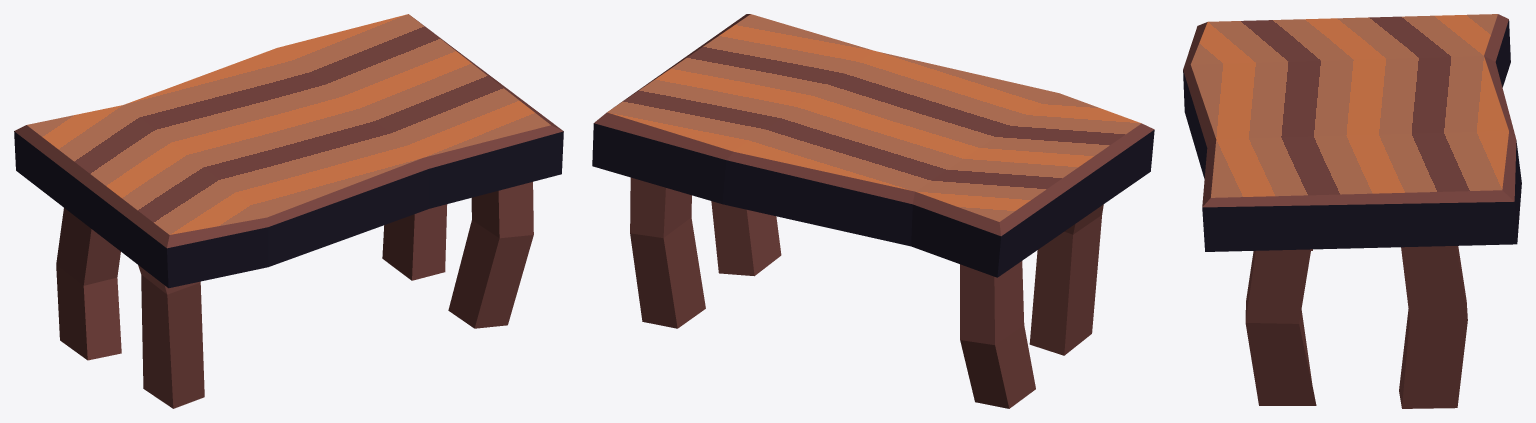
The model's file is table.glb.
3 views of the same model, side by side, from view 1: azimuth 30°, elevation 25°; view 2: azimuth 150°, elevation 25°; view 3: azimuth 270°, elevation 25° (orthographic). The views are drawn at different scales.
Parts seen in each view (by area): view 1: Table; view 2: Table; view 3: Table.
Part boxes in pixels (bbox=[...]): Table: bbox=[14, 14, 563, 408]; Table: bbox=[592, 14, 1154, 408]; Table: bbox=[1183, 14, 1521, 408].
Bounding box in the file's own units: 1.97 × 1.04 × 1.41.
1 material, 1 textured.
